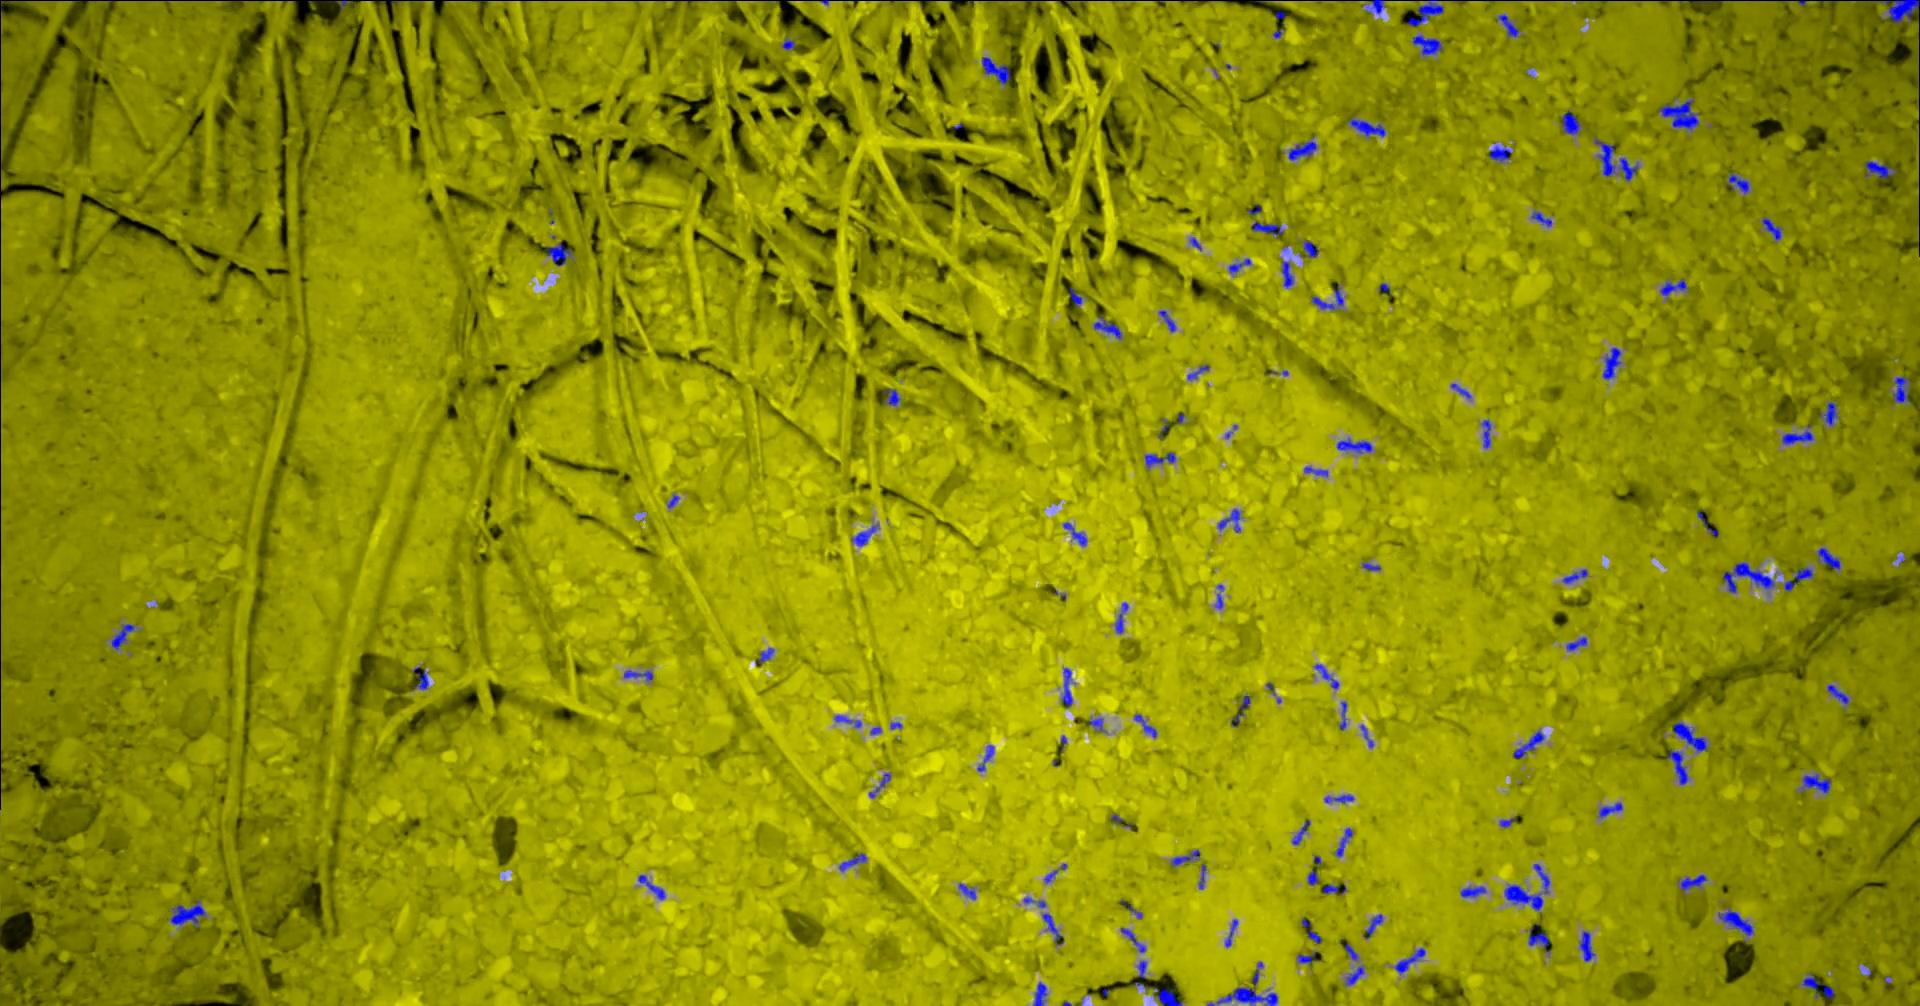ant: (1594, 137, 1638, 180), (1722, 561, 1774, 592), (1855, 0, 1919, 23), (1657, 98, 1699, 130), (1206, 987, 1277, 1005), (1671, 721, 1707, 752), (1503, 884, 1542, 909), (1406, 0, 1443, 25), (170, 901, 204, 927), (1718, 908, 1752, 935), (1512, 730, 1544, 757), (1310, 283, 1343, 309), (1394, 948, 1425, 974), (982, 56, 1010, 84), (1349, 116, 1385, 136), (1288, 135, 1316, 160), (637, 874, 665, 899), (1667, 749, 1688, 784), (1782, 423, 1813, 445), (1093, 315, 1121, 339), (1784, 567, 1812, 591), (1412, 34, 1443, 56), (1041, 913, 1063, 944), (110, 622, 135, 649), (1528, 923, 1550, 951), (1314, 663, 1338, 688), (1120, 927, 1145, 951), (1230, 695, 1250, 727), (546, 243, 571, 265), (851, 523, 877, 545), (1603, 347, 1620, 379), (1801, 774, 1830, 793), (1333, 827, 1352, 856), (1217, 508, 1239, 532), (1062, 522, 1086, 545), (1697, 511, 1718, 536), (1864, 160, 1895, 178), (1336, 438, 1371, 453), (1133, 714, 1156, 737), (1170, 848, 1199, 866), (1153, 987, 1182, 1005), (1251, 221, 1284, 236), (1533, 862, 1549, 893), (838, 854, 866, 871), (1817, 547, 1840, 569), (869, 774, 890, 796), (1497, 13, 1517, 37), (1302, 917, 1321, 942), (1578, 930, 1594, 962), (1144, 452, 1175, 467), (1801, 973, 1821, 996), (1818, 401, 1837, 426), (1892, 376, 1909, 403), (1680, 874, 1707, 890), (1728, 171, 1749, 193), (1761, 217, 1782, 239), (1488, 142, 1511, 161), (1291, 819, 1309, 843), (1658, 279, 1686, 295), (1114, 602, 1128, 633), (977, 746, 993, 771), (1561, 111, 1578, 133), (1062, 667, 1072, 706), (1597, 801, 1622, 818), (1365, 913, 1382, 937), (1562, 568, 1587, 583), (1827, 683, 1848, 702), (411, 666, 428, 688), (1158, 310, 1175, 332), (1280, 260, 1293, 287), (1224, 920, 1237, 946), (1345, 965, 1363, 984), (1032, 981, 1046, 1005), (1228, 258, 1250, 273), (1187, 365, 1209, 380), (957, 882, 975, 899), (834, 715, 861, 727), (883, 387, 899, 405), (1531, 211, 1550, 226), (1450, 384, 1470, 398), (1566, 636, 1586, 650), (623, 669, 651, 680), (1324, 793, 1352, 803), (1460, 885, 1484, 897), (1302, 239, 1317, 257), (1251, 962, 1262, 984), (757, 647, 773, 662), (1068, 287, 1082, 305), (1481, 419, 1490, 447), (1343, 942, 1357, 960), (1023, 895, 1045, 907), (1303, 466, 1327, 476), (1322, 884, 1345, 894), (1087, 716, 1103, 730), (1366, 0, 1384, 13), (1338, 701, 1346, 730), (1297, 951, 1316, 963), (1215, 584, 1223, 608), (1307, 869, 1318, 884), (781, 38, 795, 50), (1137, 960, 1145, 978), (1822, 984, 1834, 997)
